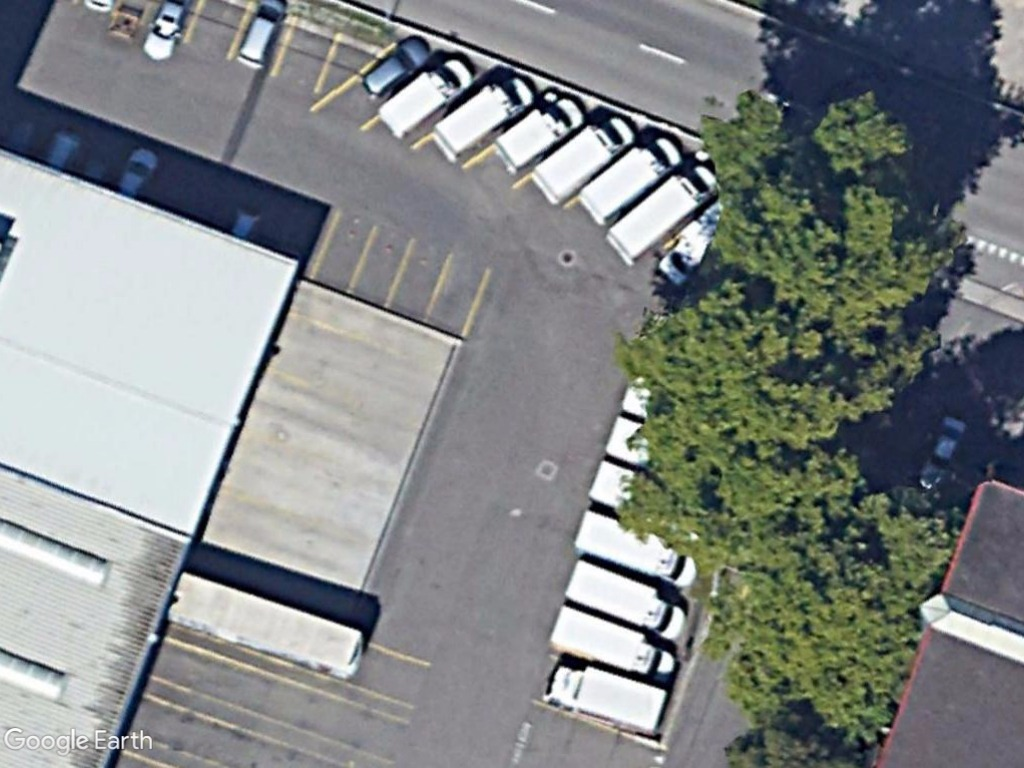car: (359, 37, 434, 101)
longvehicle: (165, 571, 369, 679)
truck: (540, 598, 678, 685), (602, 166, 723, 264), (560, 556, 686, 643), (530, 112, 641, 207), (543, 654, 669, 737), (429, 72, 543, 160), (578, 139, 684, 228), (378, 57, 477, 143), (487, 94, 587, 177)
